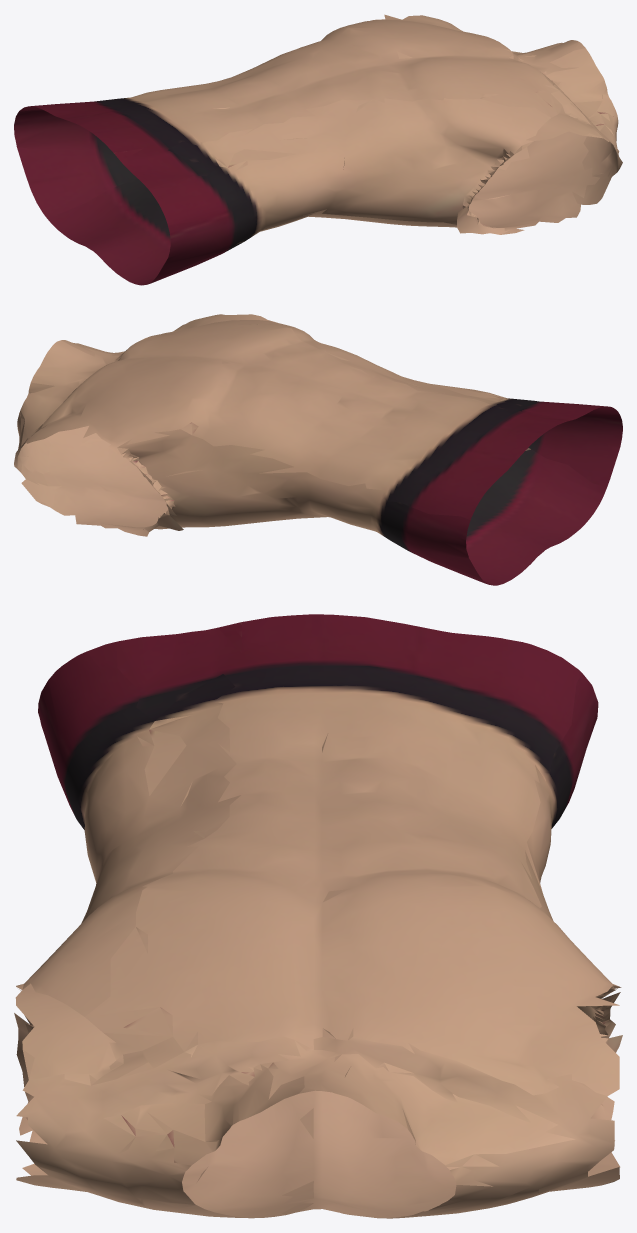
File: contestant-13-limbless-torso.glb
3 renders of one model, top to bottom at view 1: azimuth 30°, elevation 25°; view 2: azimuth 150°, elevation 25°; view 3: azimuth 270°, elevation 25°, orthographic. The views are drawn at different scales.
Parts seen in each view (by area): view 1: Banquet_Victim_Meshy_Torso_Core; view 2: Banquet_Victim_Meshy_Torso_Core; view 3: Banquet_Victim_Meshy_Torso_Core.
Part boxes in pixels (box(x1,y1,x2,y2)): Banquet_Victim_Meshy_Torso_Core: box(14, 14, 622, 285); Banquet_Victim_Meshy_Torso_Core: box(14, 314, 622, 585); Banquet_Victim_Meshy_Torso_Core: box(14, 614, 622, 1218).
Bounding box in the file's own units: 0.595 × 0.1582 × 0.3596.
1 material, 1 textured.
